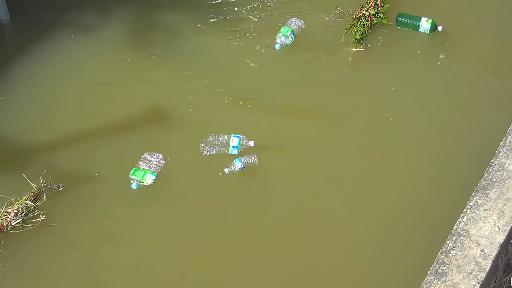plastic: (393, 17, 441, 47), (266, 19, 306, 51), (206, 128, 255, 150), (129, 151, 162, 179), (214, 155, 258, 169)
twig: (0, 157, 58, 237), (330, 0, 397, 44)
